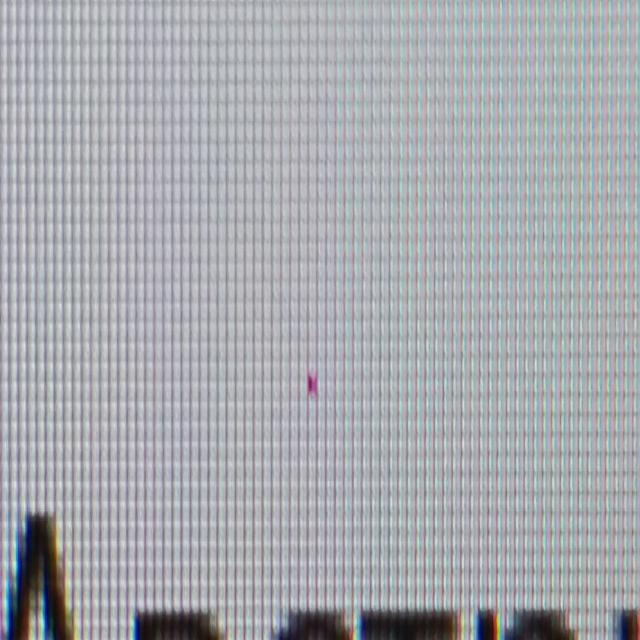Dead pixel: (308, 374, 317, 396)
